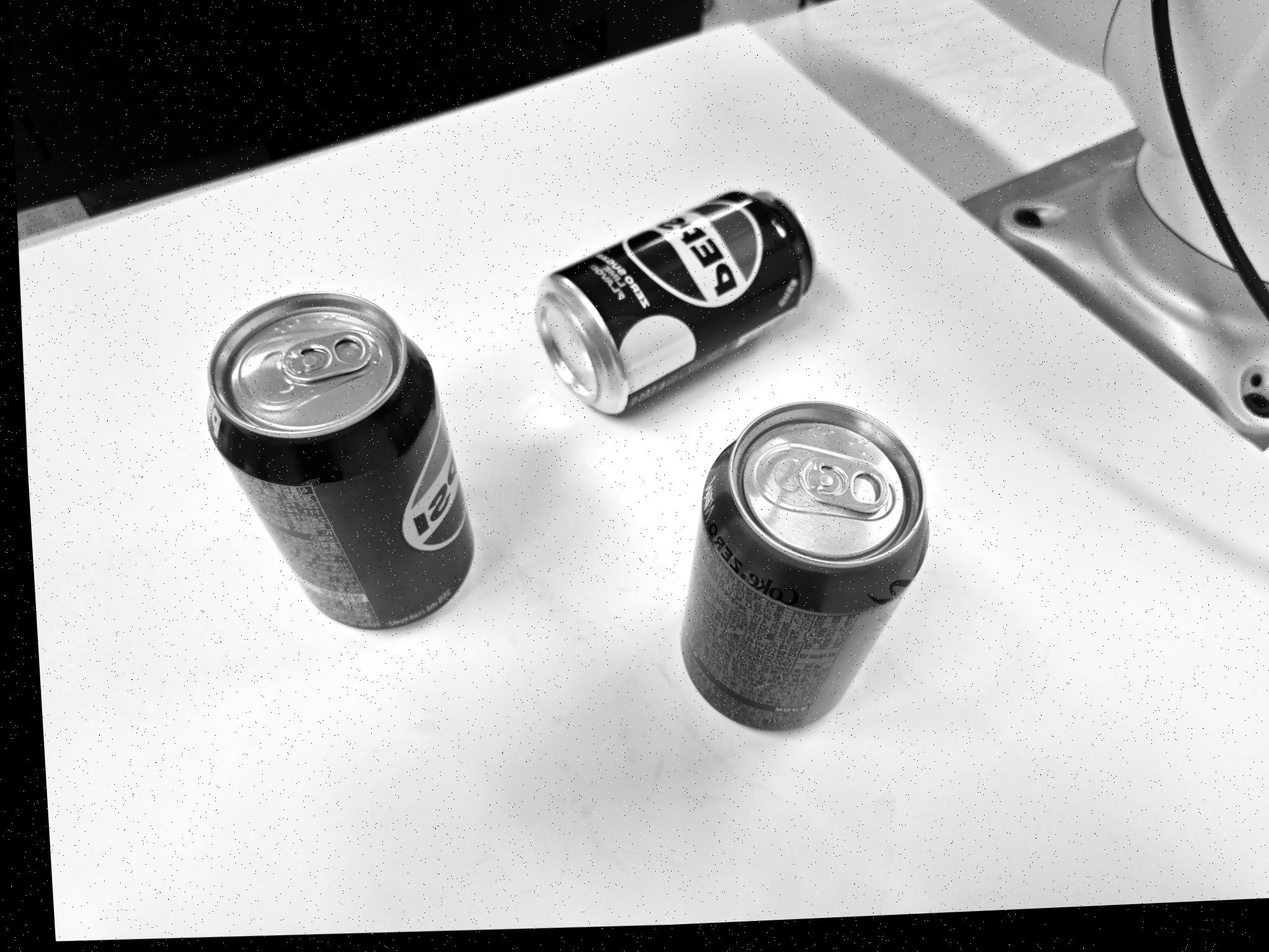can_coke_zero: (681, 402, 929, 730)
can_pepsi: (207, 293, 474, 629)
can_pepsi_zero: (536, 191, 813, 413)
